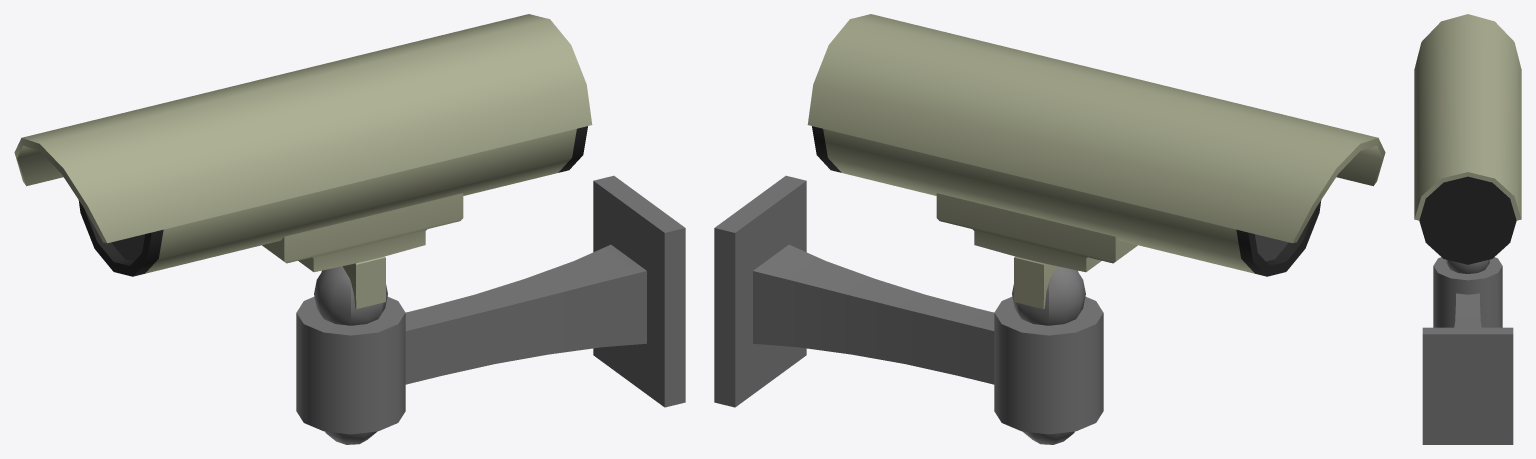
The model's file is Cam.gltf.
3 views of the same model, side by side, from view 1: azimuth 30°, elevation 25°; view 2: azimuth 150°, elevation 25°; view 3: azimuth 270°, elevation 25° (orthographic). The views are drawn at different scales.
Parts seen in each view (by area): view 1: Cam, CamHolder; view 2: Cam, CamHolder; view 3: Cam, CamHolder.
Boxes of the visible parts, <box> form: Cam: <box>14,14,592,325</box>; CamHolder: <box>296,175,685,444</box>; Cam: <box>807,14,1385,325</box>; CamHolder: <box>714,175,1103,444</box>; Cam: <box>1414,14,1521,273</box>; CamHolder: <box>1422,257,1513,444</box>.
Bounding box in the file's own units: 0.8094 × 0.4836 × 0.194.
